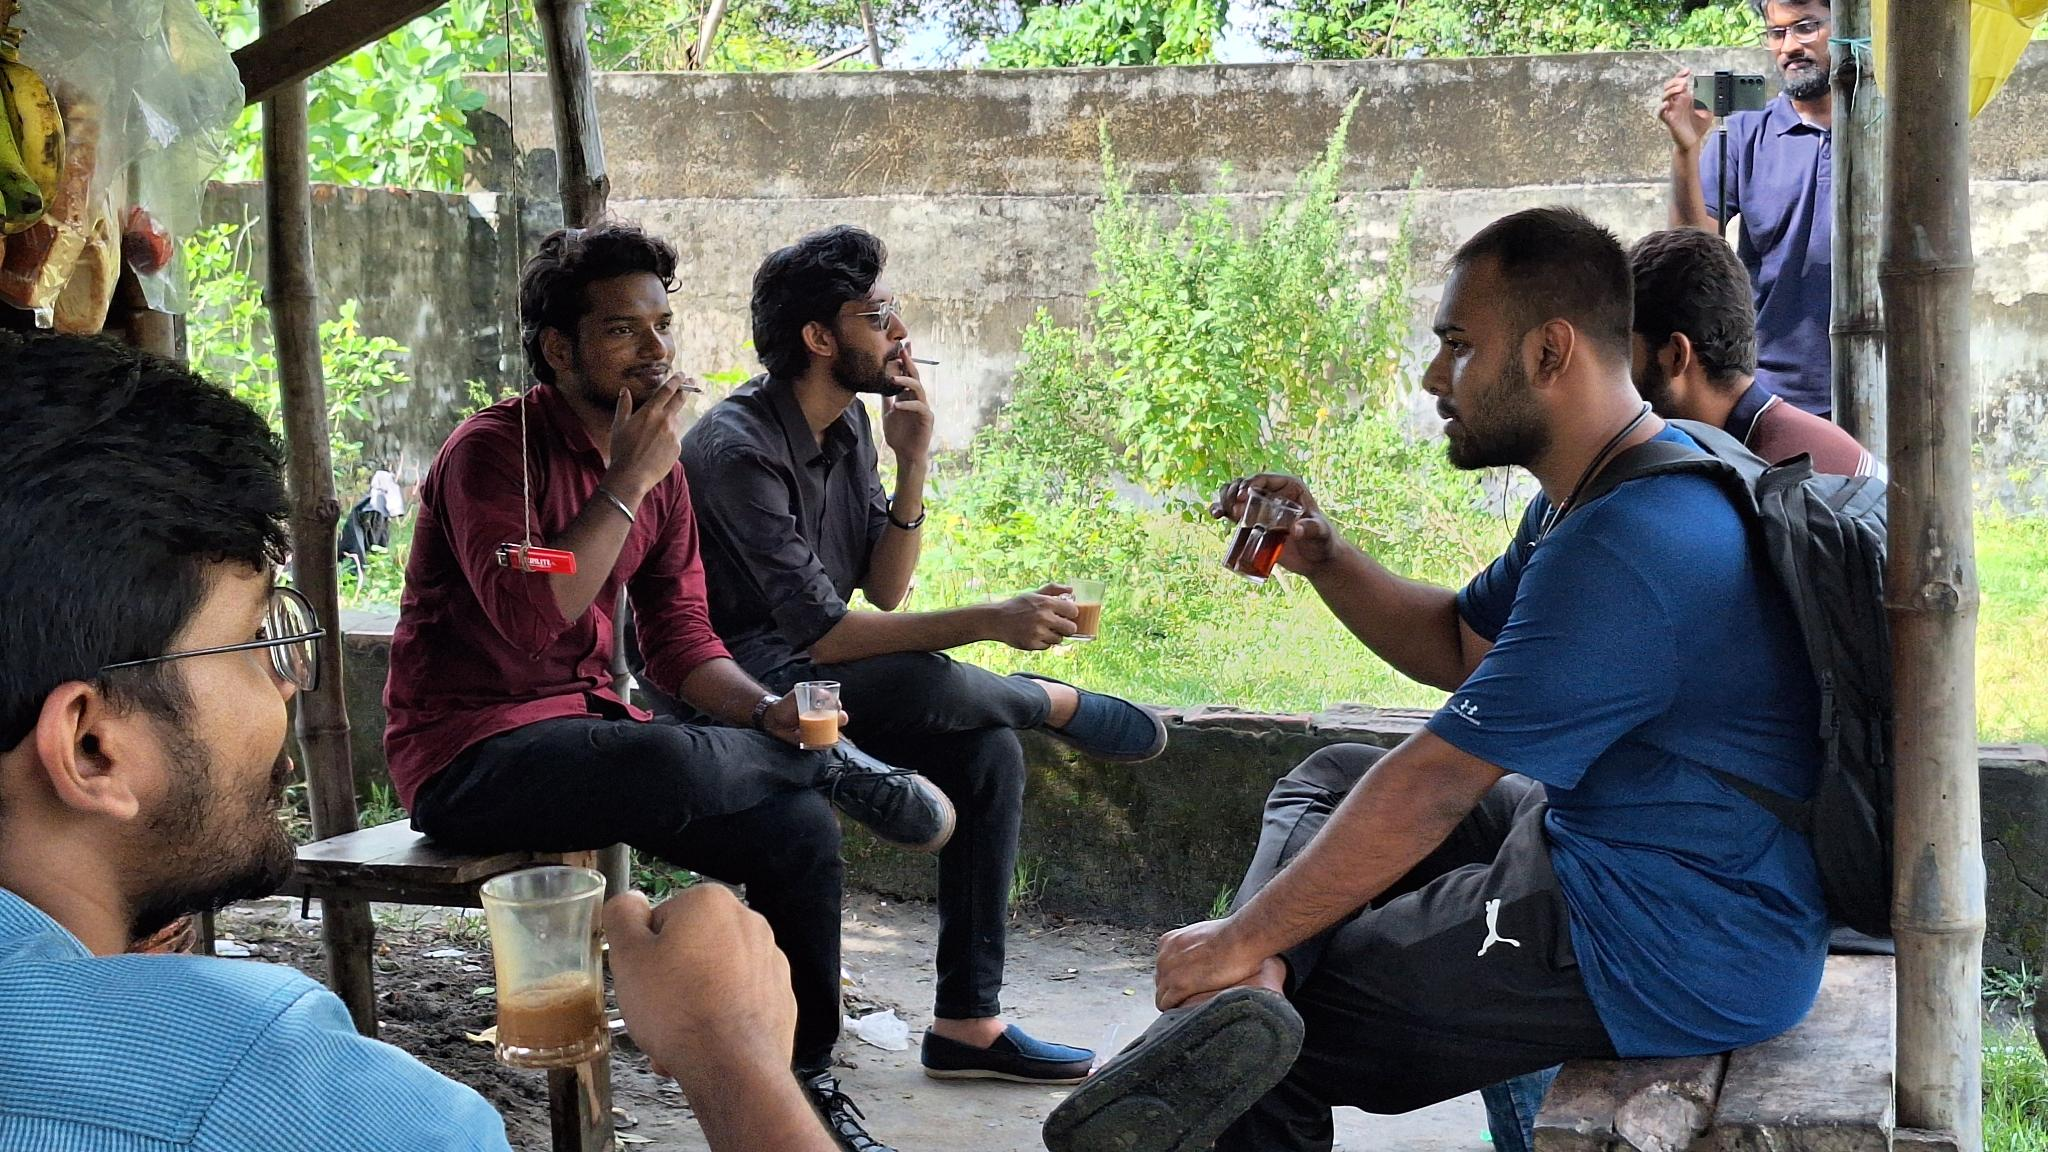cigarette: (900, 350, 944, 370), (672, 378, 705, 397)
nonSmoker: (1047, 205, 1836, 1152), (0, 314, 499, 1152), (1660, 0, 1840, 422)
smoker: (390, 224, 962, 1152), (713, 228, 1163, 1093)
